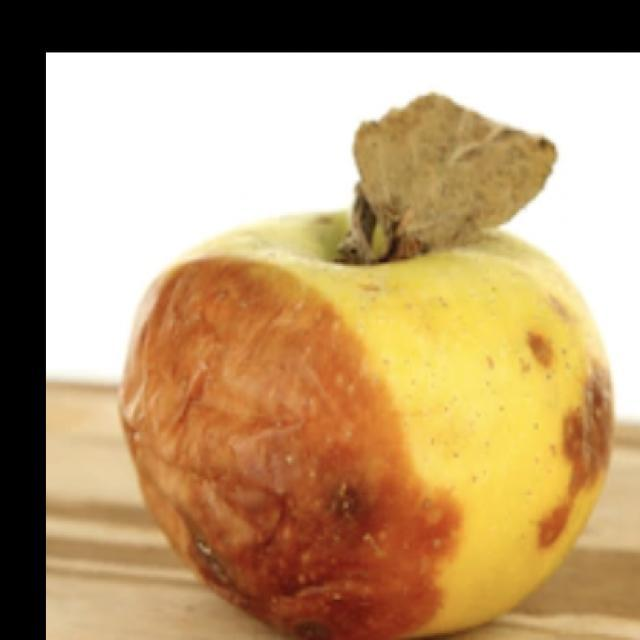Rotten: (122, 195, 620, 640)
